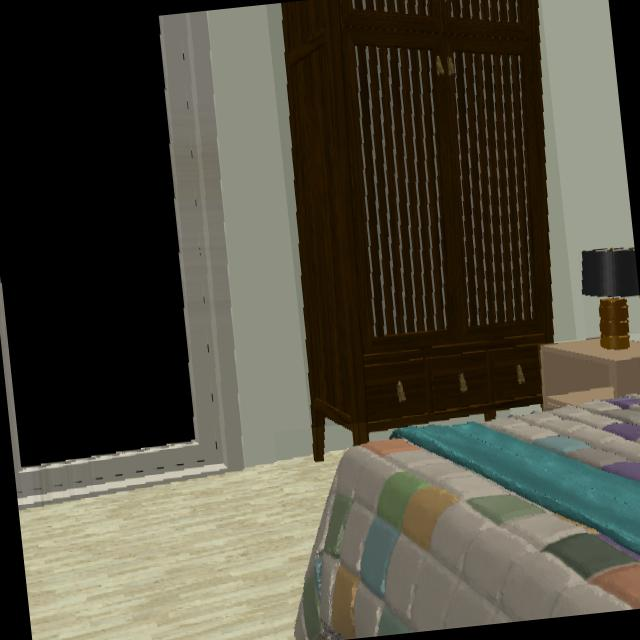bed: (295, 394, 640, 640)
lamp: (582, 248, 639, 351)
nighttable: (541, 339, 640, 408)
wardrobe: (280, 0, 556, 461)
